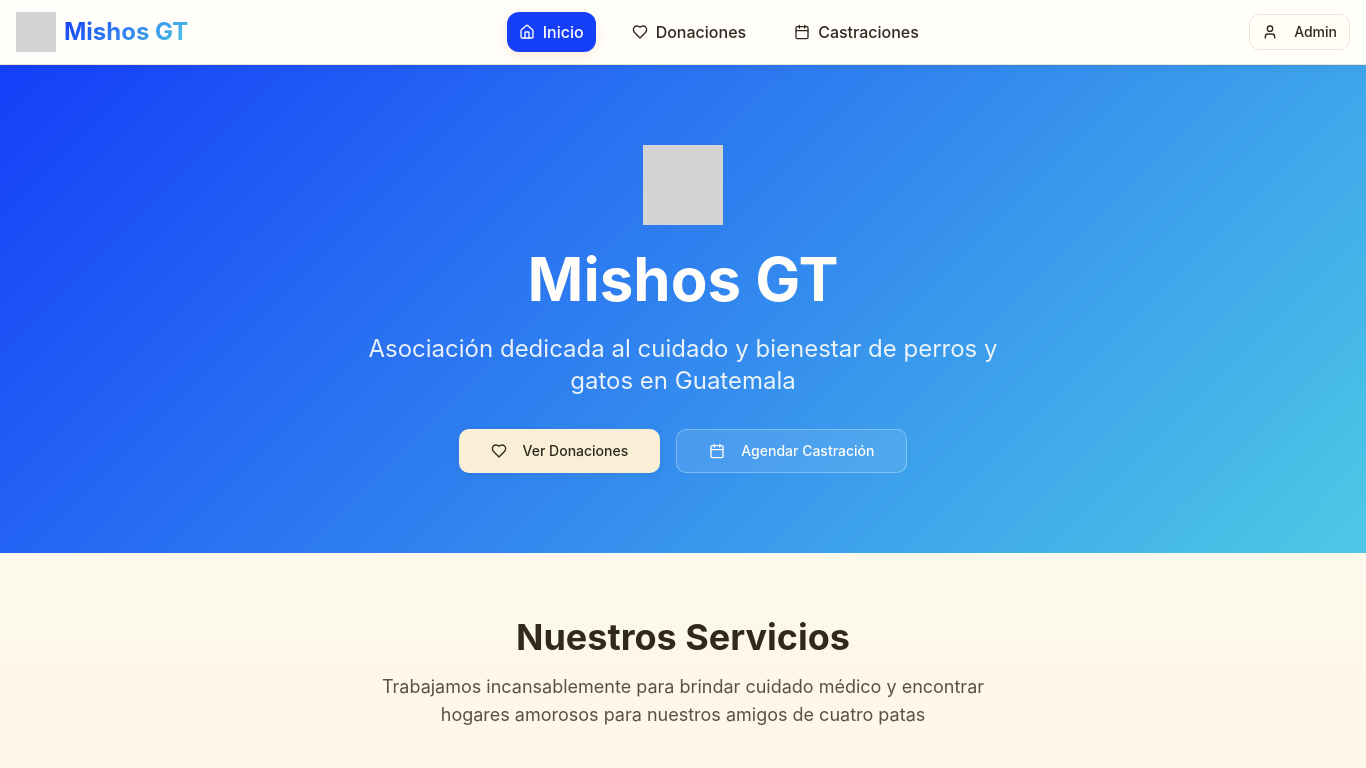
Scenario: Home (integration) › navega a "/donations" al hacer click en "Ver Donaciones"
The image size is (1366, 768).
Click the button with test id "cta-donations" at (559, 451), box [458, 429, 660, 473]
(page scrolled)
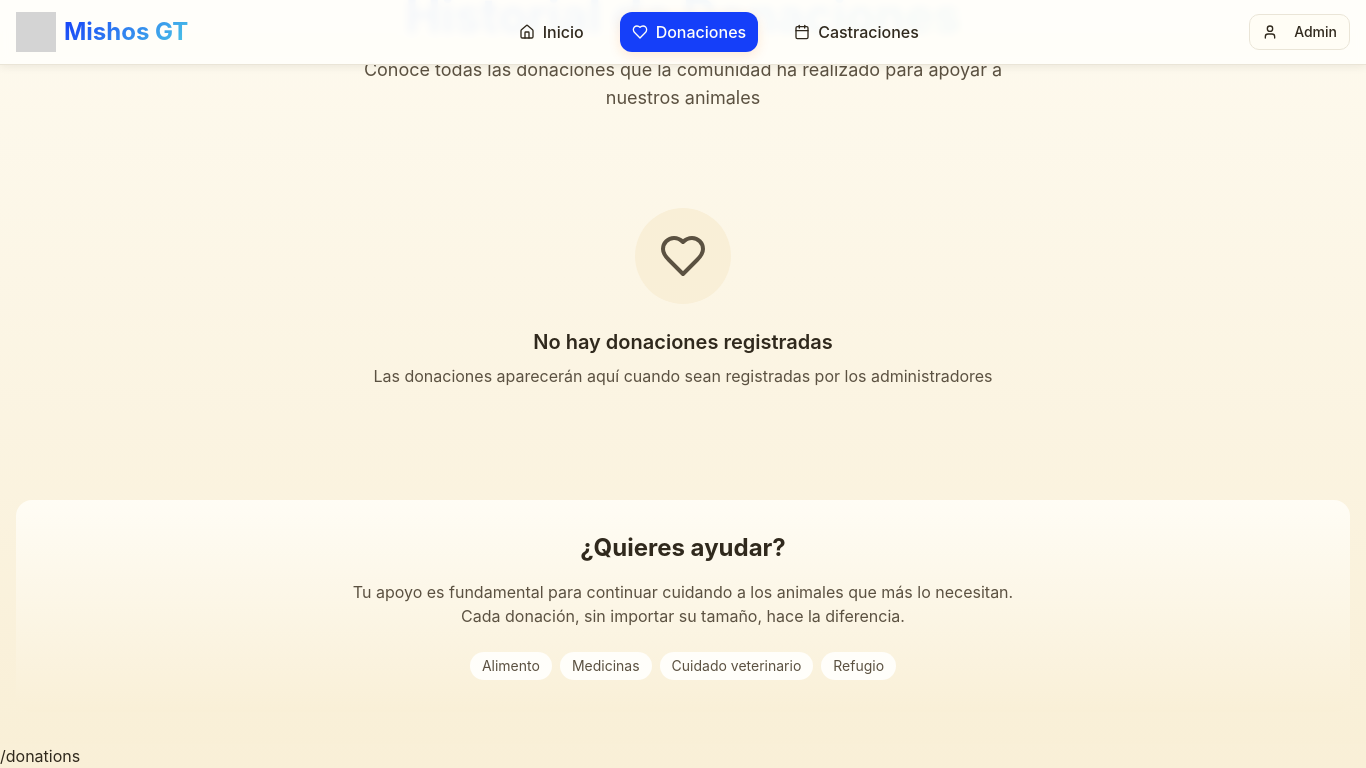
Now the text with test id "pathname" reads "/donations", box [0, 746, 80, 766]
